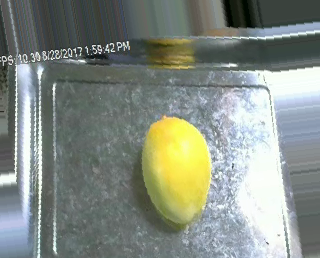Mango: (130, 109, 218, 223)
